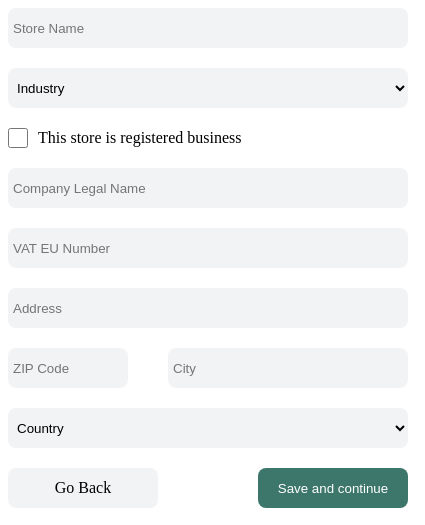
Test case: Registration Form Tests › actions tests › should show the error on clearing the 'name' field
Type "1" into the field with test id "store-name" at (208, 28), box [8,8,408,48]
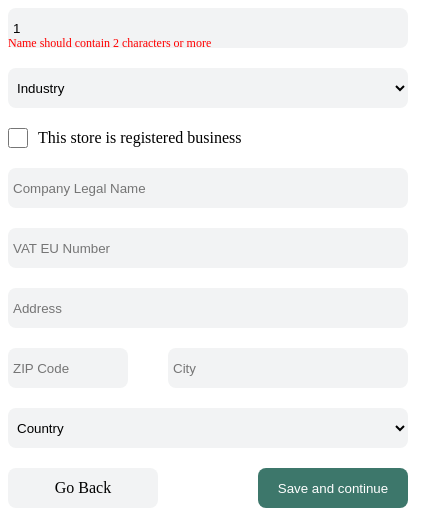
Clear the field with test id "store-name" at (208, 28), box [8,8,408,48]
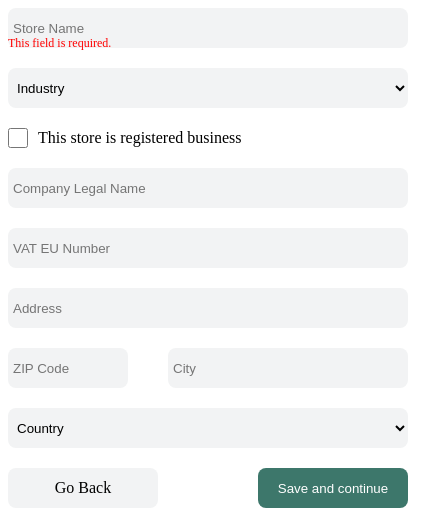
Now the text "This field is required." is shown, box [8,36,111,51]
